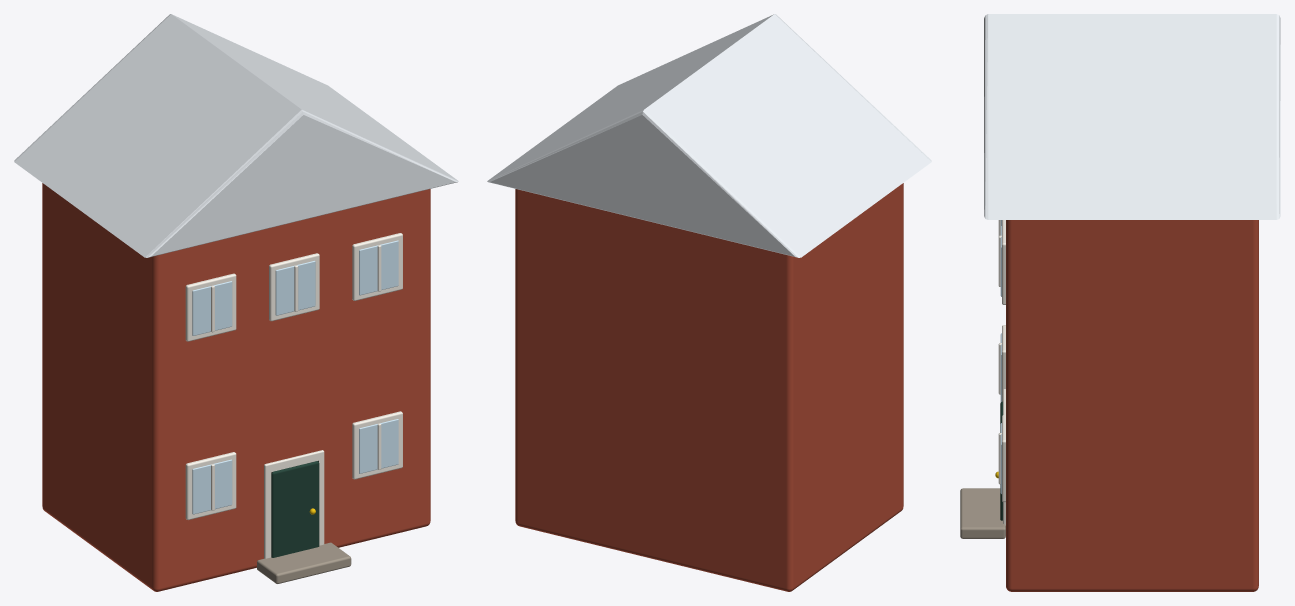
File: maison_docteur_shark.glb
3 renders of one model, left to right at view 1: azimuth 30°, elevation 25°; view 2: azimuth 150°, elevation 25°; view 3: azimuth 270°, elevation 25°, orthographic. The views are drawn at different scales.
Visible parts, largest first — view 1: house; view 2: house; view 3: house.
Boxes of the visible parts, x1,y1,x2,y2 form: house: (14,14,458,591); house: (487,14,931,591); house: (960,14,1280,591).
Bounding box in the file's own units: 7.92 × 11.02 × 6.33.
